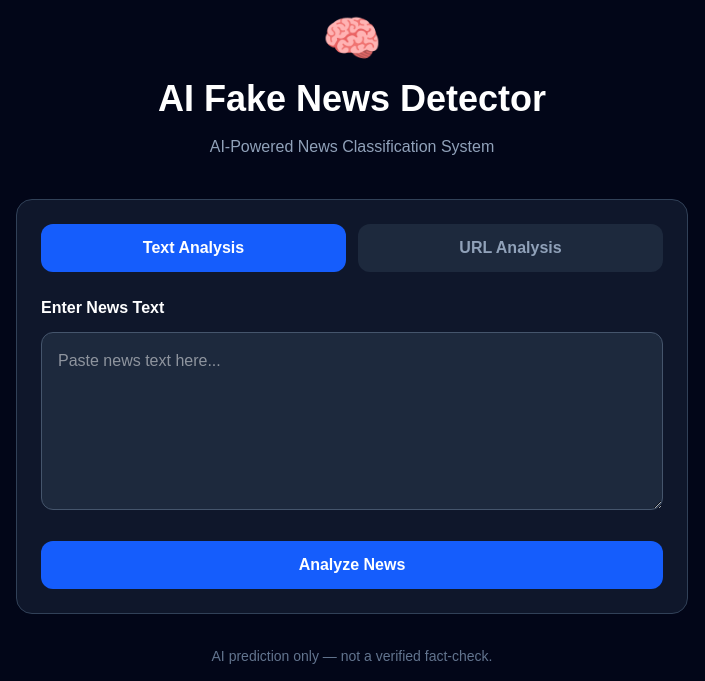
Test case: AI Fake News Detector › rejects HTTP news URLs
Click the button "URL Analysis": (510, 248) x1=358 y1=224 x2=663 y2=272
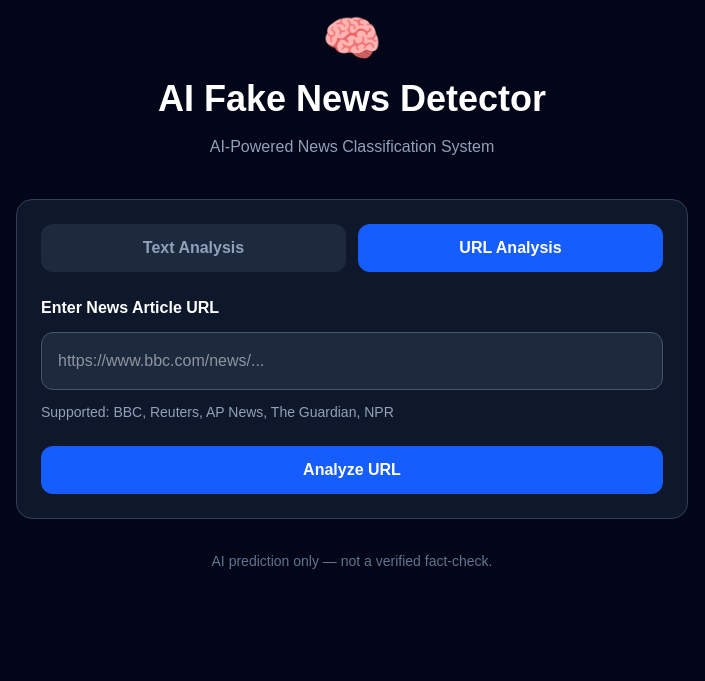
In the field labelled "Enter News Article URL": (352, 361) x1=41 y1=332 x2=663 y2=390, type "http://example.com/news"
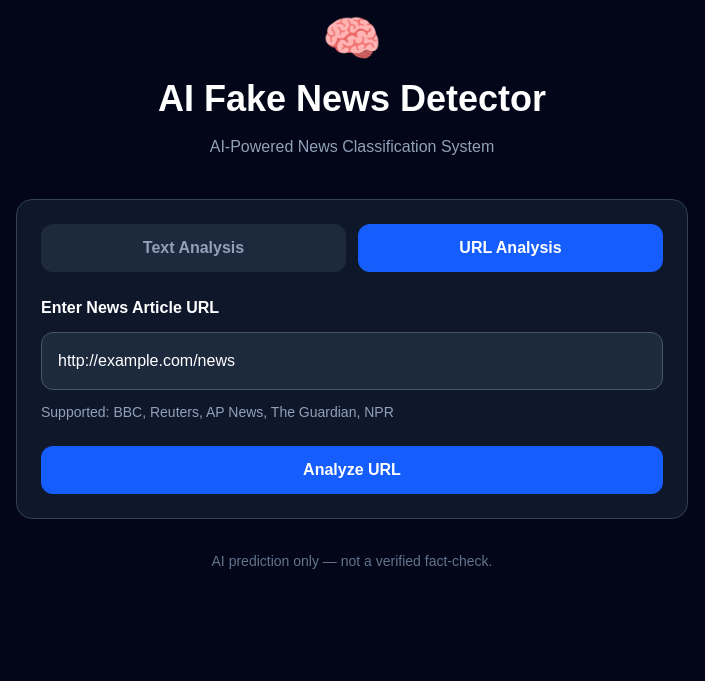
Click the button "Analyze URL": (352, 470) x1=41 y1=446 x2=663 y2=494
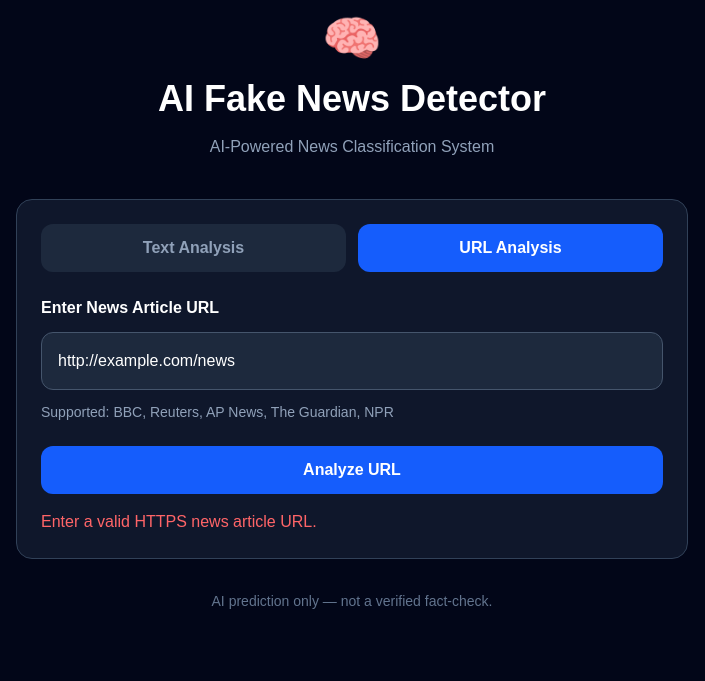
Now the message reads "Enter a valid HTTPS news article URL.", box x1=41 y1=513 x2=317 y2=530
